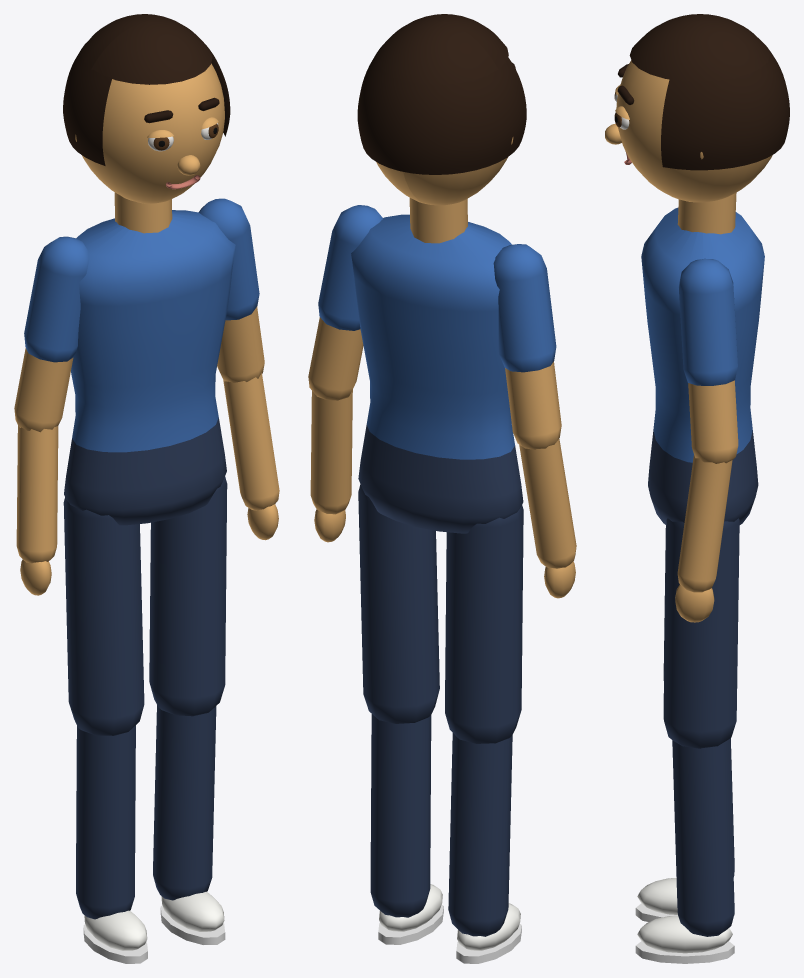
Rendered from sample.glb.
3 views of the same model, side by side, from view 1: azimuth 30°, elevation 25°; view 2: azimuth 150°, elevation 25°; view 3: azimuth 270°, elevation 25° (orthographic).
Visible parts, largest first — view 1: bottom, top, skin, hair, shoes, sole; view 2: bottom, top, skin, hair, shoes, sole; view 3: bottom, top, skin, hair, shoes, sole.
Boxes of the visible parts, x1,y1,x2,y2 form: bottom: (63, 417, 227, 919); top: (24, 198, 259, 452); skin: (14, 63, 279, 595); hair: (63, 14, 230, 165); shoes: (84, 891, 224, 950); sole: (83, 905, 225, 963); bottom: (358, 425, 523, 936); top: (318, 205, 556, 459); skin: (308, 137, 576, 598); hair: (357, 14, 526, 174); shoes: (379, 884, 520, 950); sole: (378, 905, 521, 963); bottom: (648, 430, 758, 936); top: (641, 207, 764, 462); skin: (605, 60, 772, 622); hair: (629, 14, 789, 170); shoes: (637, 878, 732, 953); sole: (635, 903, 734, 963).
Size of the model in its own units: 0.4999 by 1.69 by 0.309.
